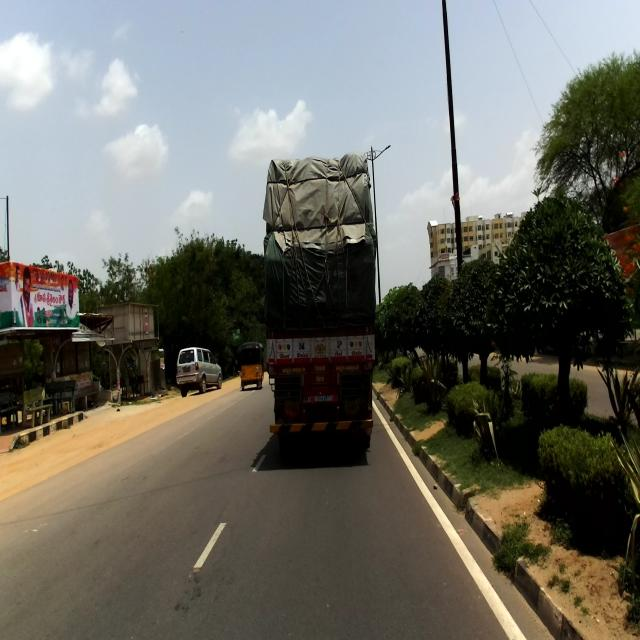autorickshaw: (239, 342, 262, 390)
car: (175, 346, 223, 396)
truck: (263, 152, 377, 449)
